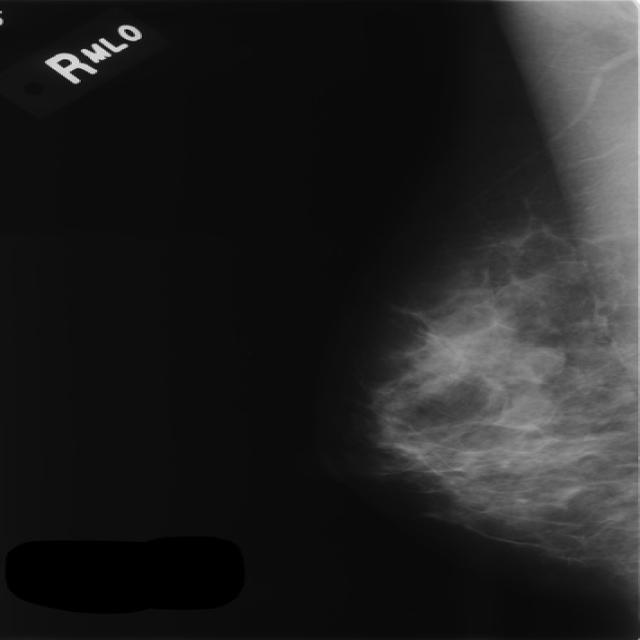tumour: (514, 344, 563, 381)
